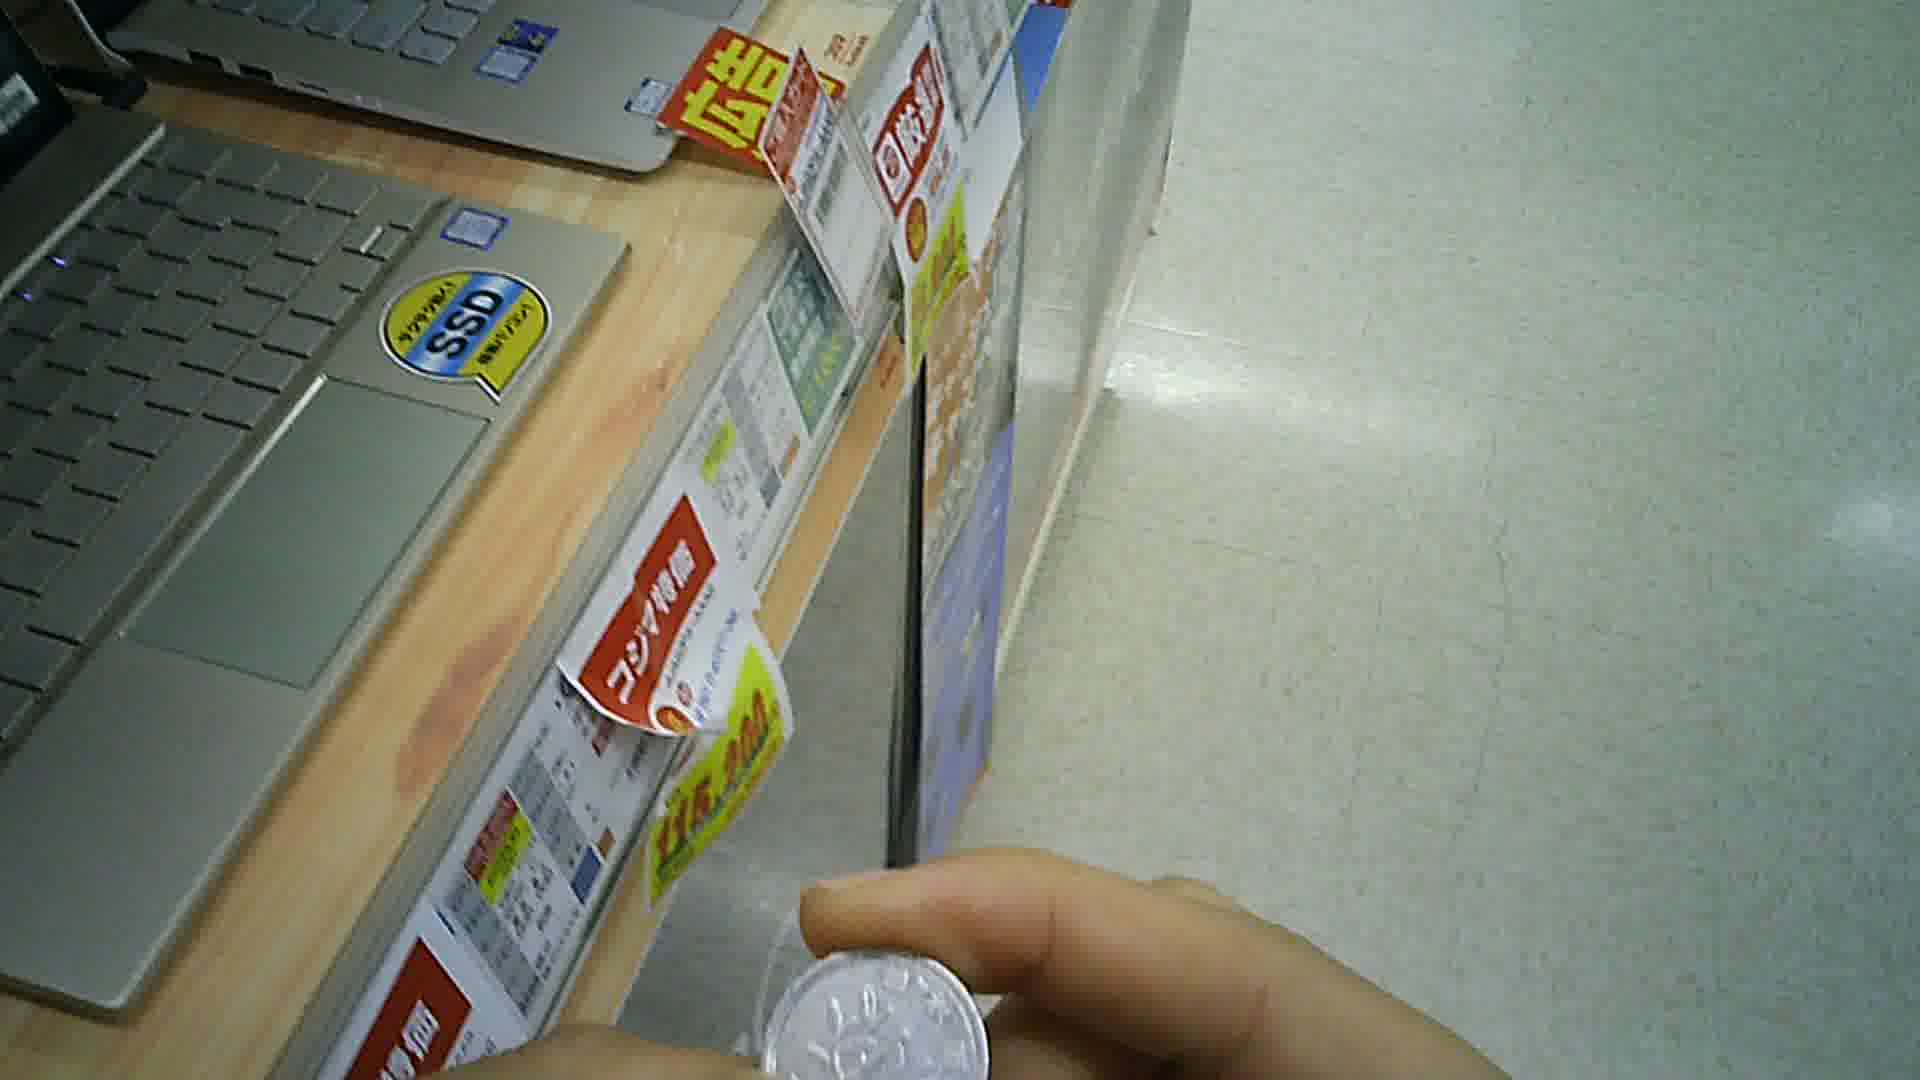1 Yen: (756, 928, 993, 1079)
